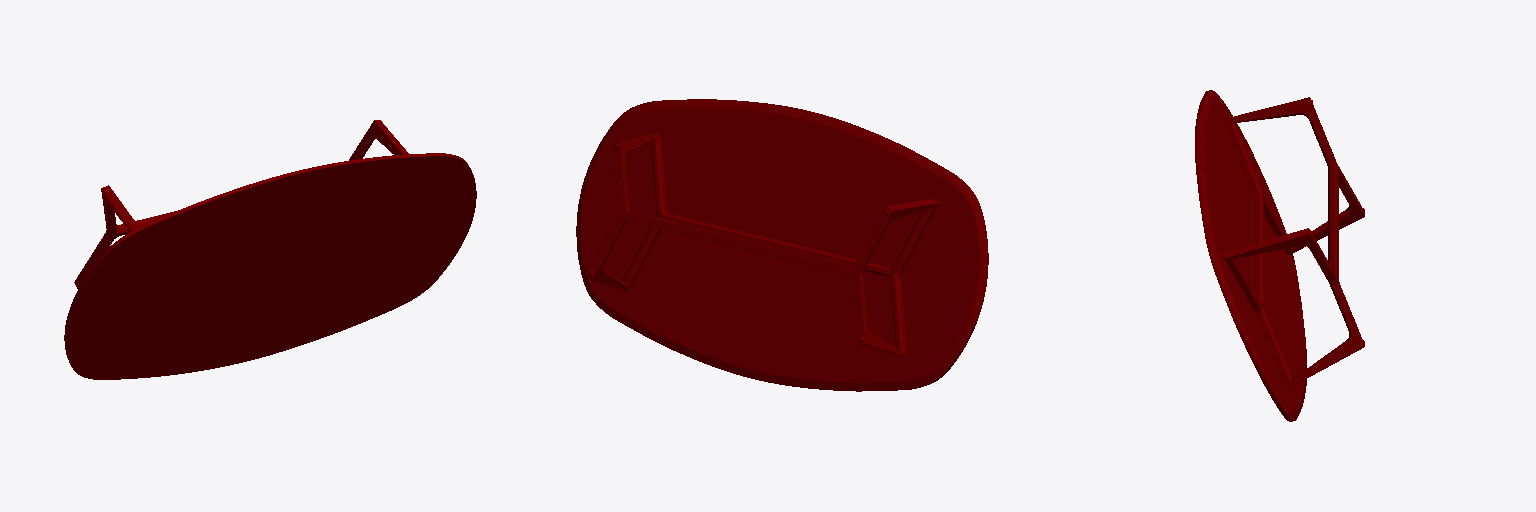
File: tea-table.obj
3 renders of one model, left to right at view 1: azimuth 30°, elevation 25°; view 2: azimuth 150°, elevation 25°; view 3: azimuth 270°, elevation 25°, orthographic.
Parts seen in each view (by area): view 1: Object.6, Object.4; view 2: Object.6, Object.4; view 3: Object.6, Object.4.
Boxes of the visible parts, box(x1,y1,x2,y2) form: Object.6: box(64, 153, 476, 379); Object.4: box(74, 120, 408, 288); Object.6: box(576, 99, 988, 391); Object.4: box(586, 133, 938, 357); Object.6: box(1195, 90, 1306, 421); Object.4: box(1223, 97, 1364, 388).
Size of the model in its own units: 156 by 85.13 by 57.33.